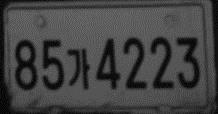2: (122, 36, 148, 90), (149, 35, 175, 89)
3: (175, 35, 200, 89)
4: (94, 36, 122, 90)
5: (41, 38, 65, 91)
8: (12, 38, 38, 90)
가: (66, 46, 91, 90)
